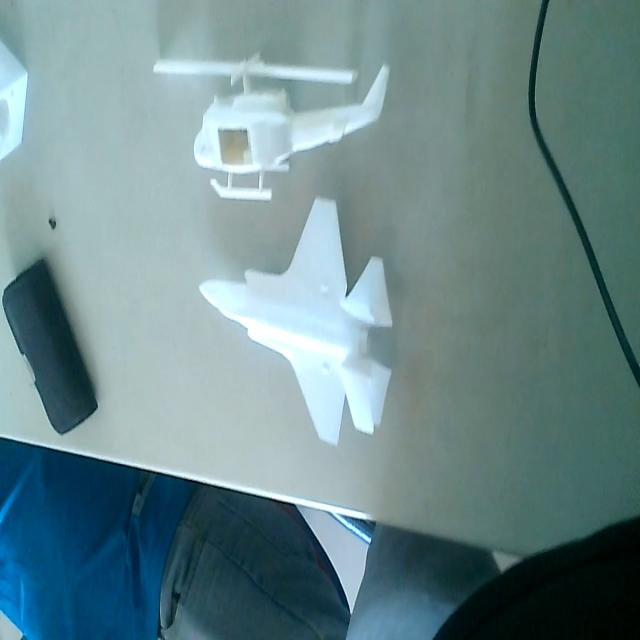Helicopter: (152, 37, 390, 204)
Jet: (195, 195, 395, 450)
